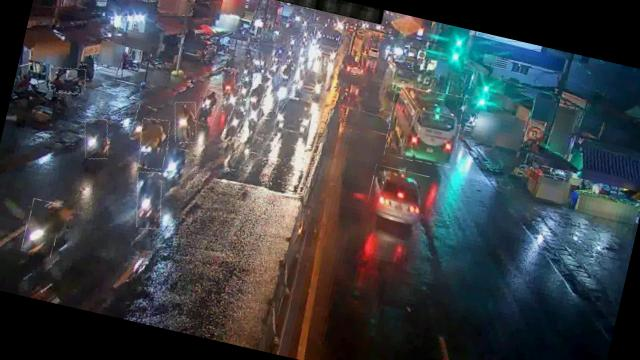Bike: (21, 197, 63, 258), (129, 169, 169, 231), (134, 116, 174, 172), (79, 116, 114, 162), (168, 99, 202, 146), (160, 147, 197, 189), (47, 63, 89, 98), (195, 88, 222, 127), (244, 71, 271, 108), (130, 105, 156, 143), (216, 68, 239, 106), (222, 108, 245, 145), (245, 104, 262, 139), (245, 82, 265, 111), (222, 87, 240, 115), (278, 63, 294, 88), (238, 78, 254, 100), (266, 58, 282, 80), (238, 82, 252, 100)
Bus: (382, 82, 468, 170)
Car: (365, 165, 430, 226), (272, 94, 316, 143), (296, 68, 324, 96)
